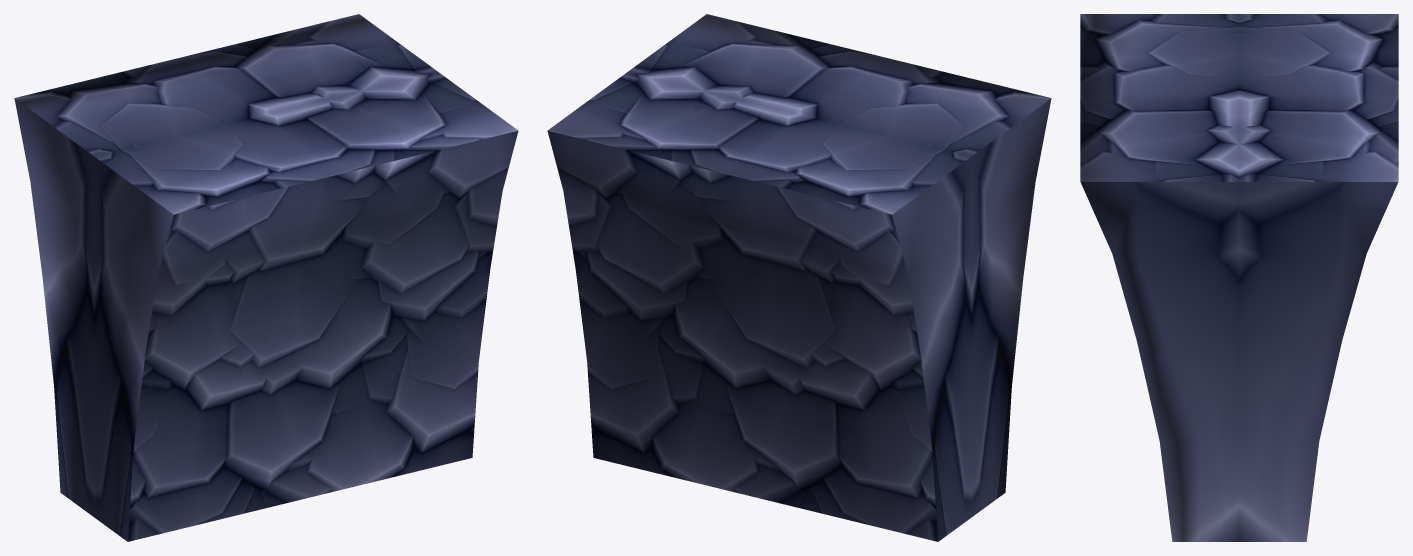
File: Modular_WallPiece.fbx
3 renders of one model, left to right at view 1: azimuth 30°, elevation 25°; view 2: azimuth 150°, elevation 25°; view 3: azimuth 270°, elevation 25°, orthographic.
Parts seen in each view (by area): view 1: Modular_Mid_Wallpiece; view 2: Modular_Mid_Wallpiece; view 3: Modular_Mid_Wallpiece.
Boxes of the visible parts, <box> form: Modular_Mid_Wallpiece: <box>14,14,518,541</box>; Modular_Mid_Wallpiece: <box>547,14,1051,541</box>; Modular_Mid_Wallpiece: <box>1080,14,1398,541</box>.
Size of the model in its own units: 10 by 10 by 8.01.
